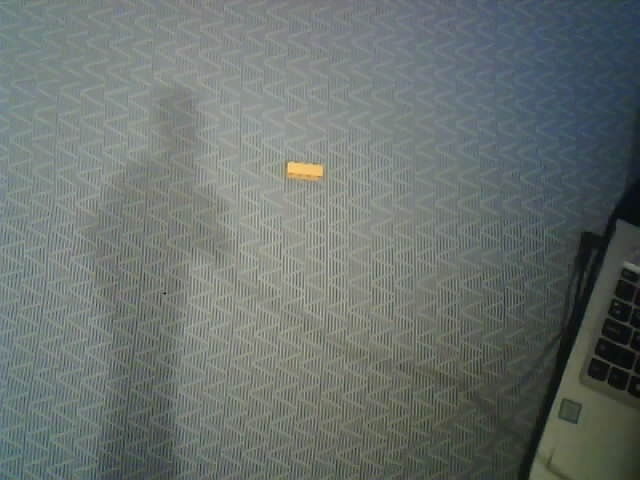lego: (285, 161, 324, 182)
